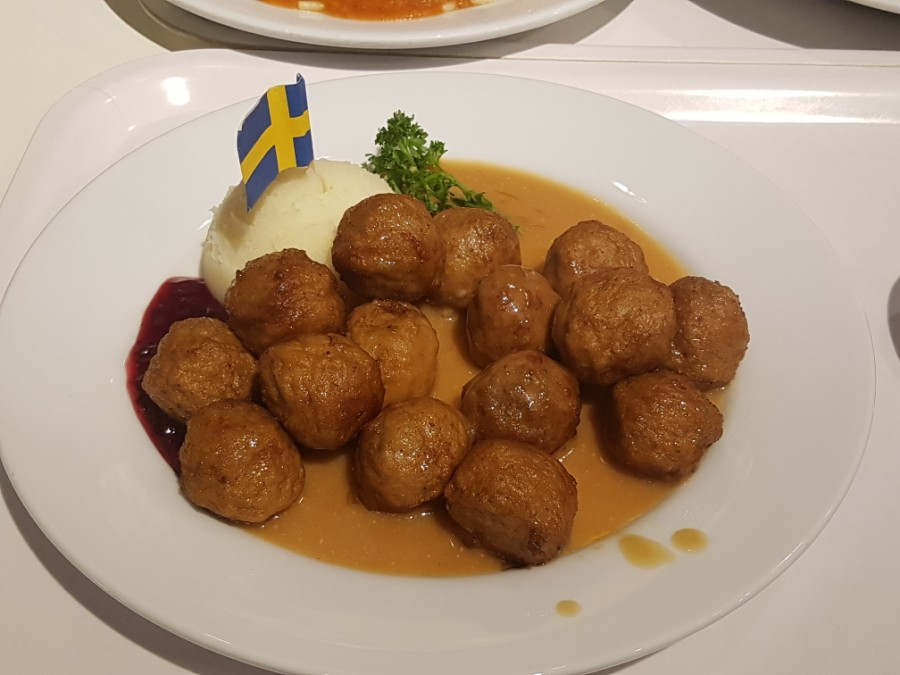meatballs: (150, 310, 634, 528)
